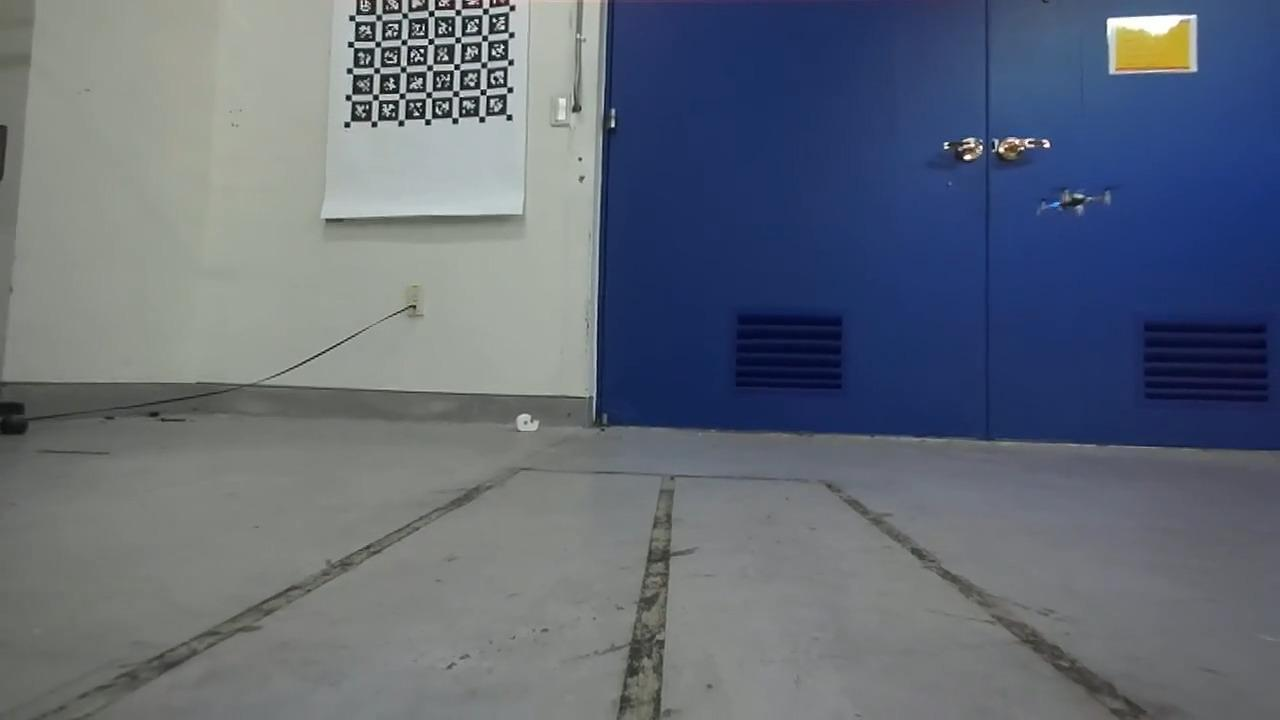crazyflie: (1025, 179, 1127, 224)
